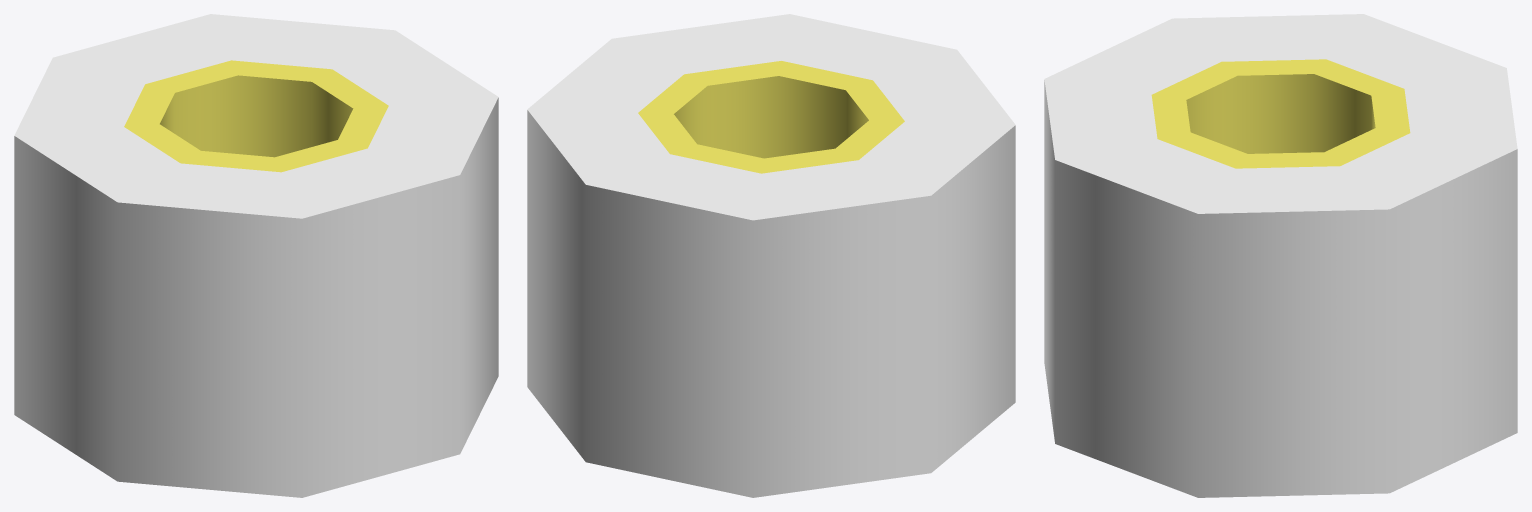
File: Confort.fbx
3 renders of one model, left to right at view 1: azimuth 30°, elevation 25°; view 2: azimuth 150°, elevation 25°; view 3: azimuth 270°, elevation 25°, orthographic. The views are drawn at different scales.
Parts seen in each view (by area): view 1: Confort; view 2: Confort; view 3: Confort.
Boxes of the visible parts, x1,y1,x2,y2 form: Confort: [14, 14, 498, 497]; Confort: [527, 14, 1015, 497]; Confort: [1044, 14, 1517, 497].
Size of the model in its own units: 18.88 by 12.5 by 18.88.
